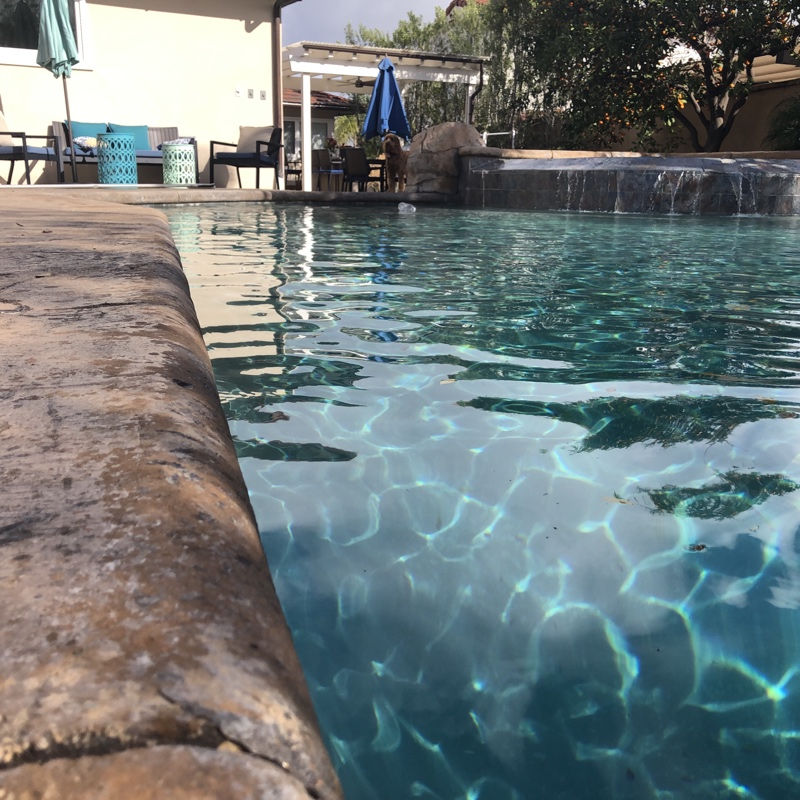Plastic Bottle: (396, 200, 416, 217)
